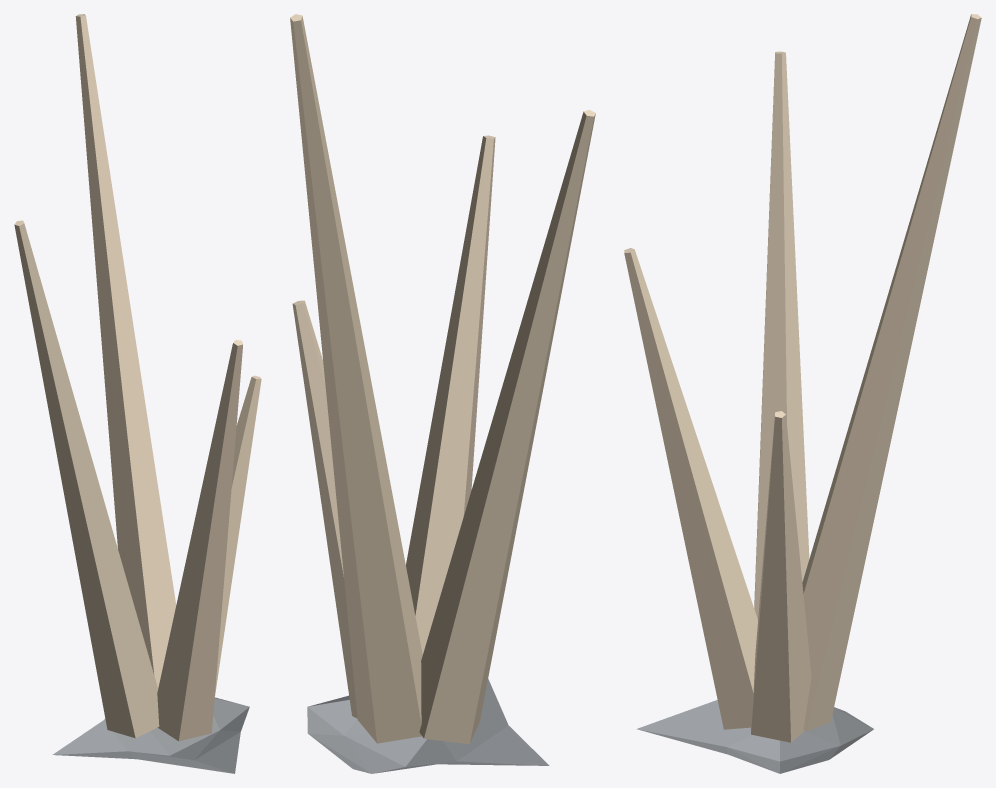
The model's file is crystal_v44.glb.
The picture shows the model from 3 angles, left to right: view 1: azimuth 30°, elevation 25°; view 2: azimuth 150°, elevation 25°; view 3: azimuth 270°, elevation 25°; orthographic projection. The views are drawn at different scales.
Visible parts, largest first — view 1: lod0; view 2: lod0; view 3: lod0.
Part boxes in pixels (left/top/right/bottom): lod0: left=14, top=14, right=261, bottom=773; lod0: left=290, top=14, right=595, bottom=773; lod0: left=624, top=14, right=981, bottom=773.
Size of what is drawn, in the model's own units: 0.7855 by 2.06 by 0.8967.
